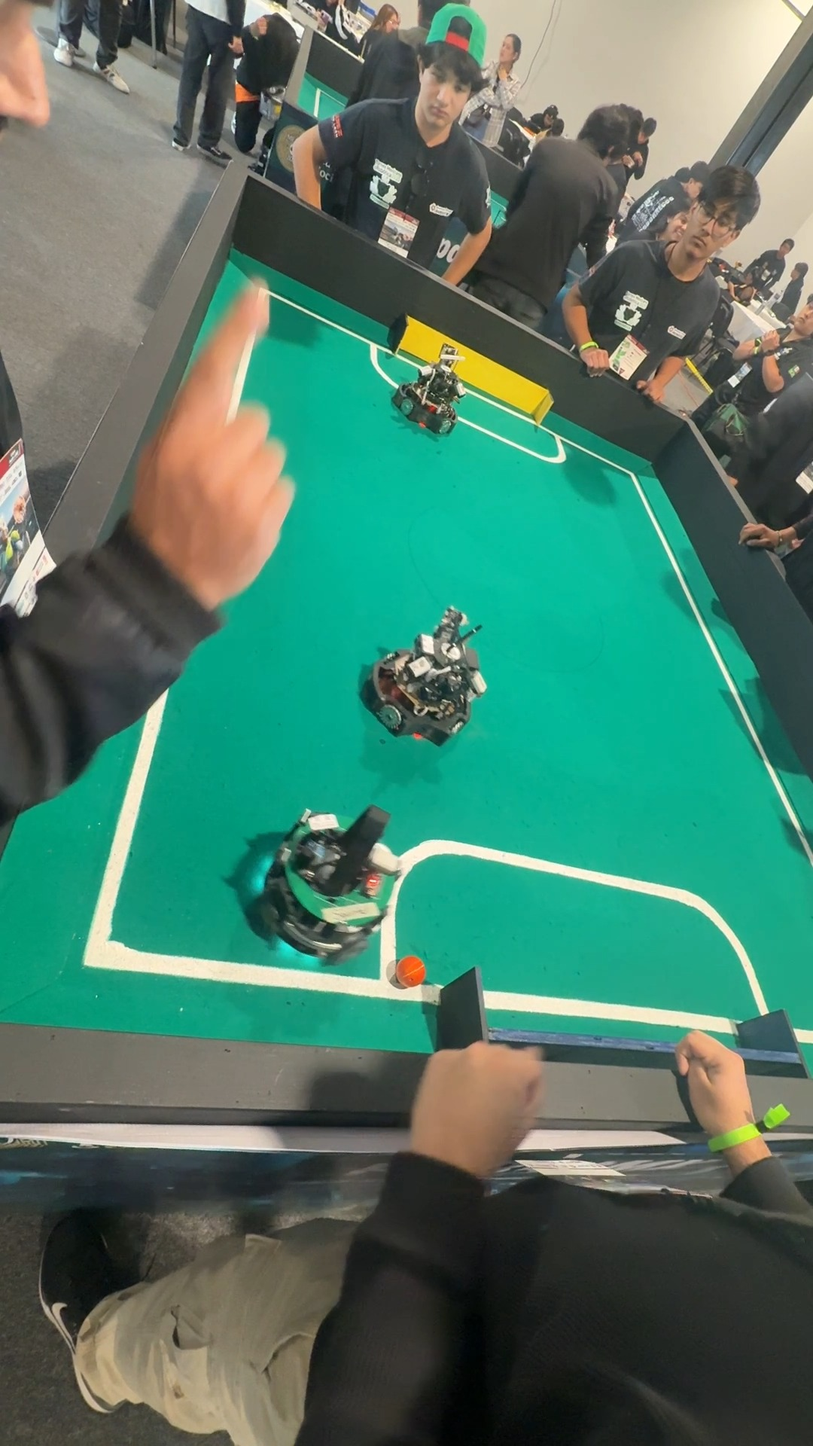Robot: (245, 773, 390, 969), (365, 599, 490, 748), (402, 339, 465, 441)
pelota: (394, 952, 424, 983)
